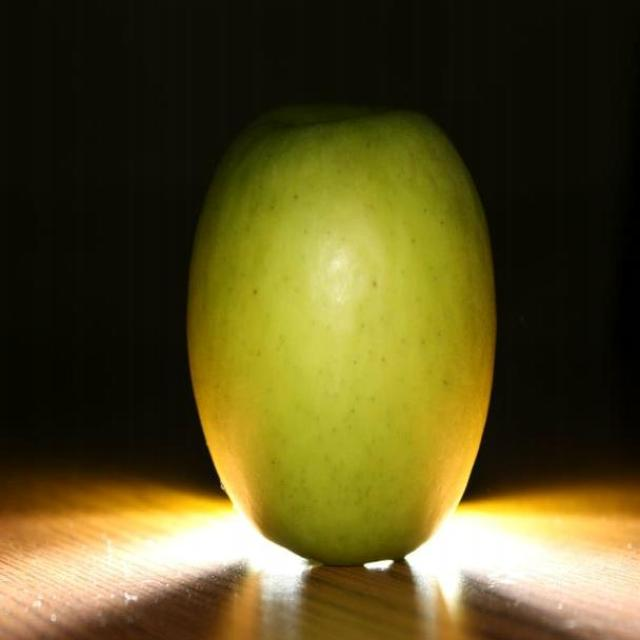HEALTHY: (182, 73, 519, 592)
